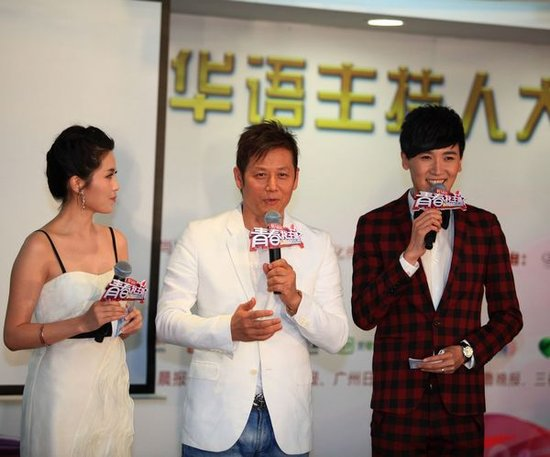face: (242, 149, 295, 212), (412, 138, 460, 194), (78, 152, 121, 212)
